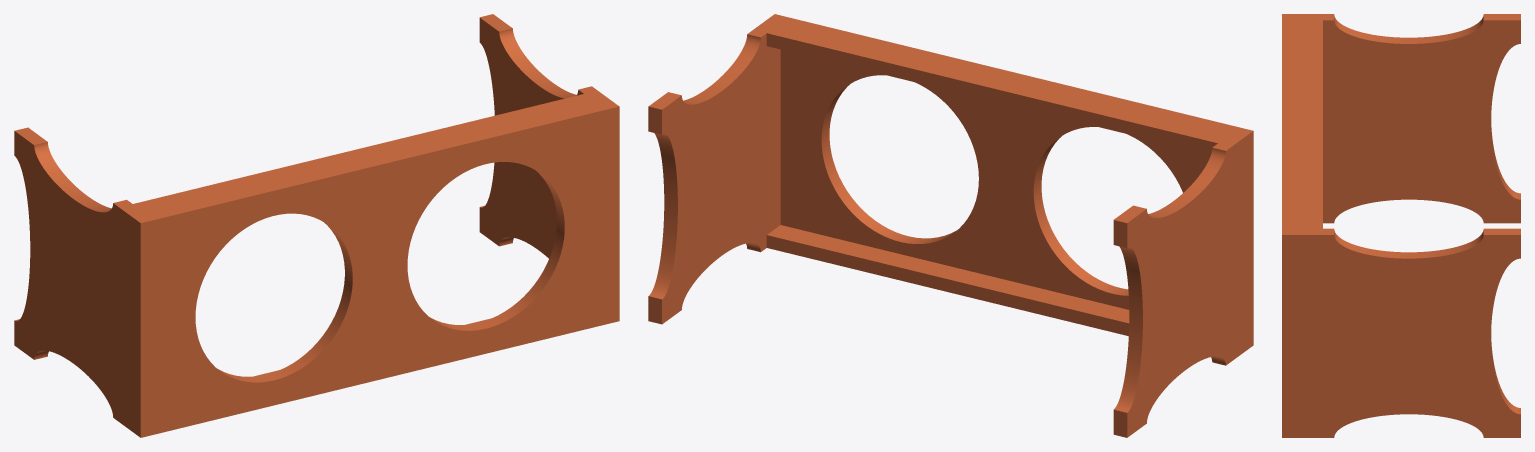
File: itatotal.gltf
The picture shows the model from 3 angles, left to right: view 1: azimuth 30°, elevation 25°; view 2: azimuth 150°, elevation 25°; view 3: azimuth 270°, elevation 25°; orthographic projection. The views are drawn at different scales.
Visible parts, largest first — view 1: mesh13_meshnode_13, mesh8_meshnode_8 (×2), mesh24_meshnode_24, mesh18_meshnode_18, mesh6_meshnode_6 (×2), mesh19_meshnode_19, mesh12_meshnode_12, mesh15_meshnode_15; view 2: mesh8_meshnode_8 (×2), mesh14_meshnode_14, mesh24_meshnode_24 (×2), mesh22_meshnode_22 (×2), mesh11_meshnode_11 (×2), mesh18_meshnode_18, mesh6_meshnode_6 (×2), mesh15_meshnode_15, mesh12_meshnode_12, mesh19_meshnode_19; view 3: mesh7_meshnode_7 (×2), mesh24_meshnode_24, mesh18_meshnode_18, mesh17_meshnode_17, mesh6_meshnode_6 (×2), mesh5_meshnode_5 (×2), mesh10_meshnode_10 (×2), mesh11_meshnode_11.
Part boxes in pixels (<box>): mesh13_meshnode_13: <box>140,106,619,437</box>; mesh8_meshnode_8 (×2): <box>14,18,583,431</box>; mesh24_meshnode_24: <box>133,94,597,213</box>; mesh18_meshnode_18: <box>133,100,618,222</box>; mesh6_meshnode_6 (×2): <box>34,28,576,212</box>; mesh19_meshnode_19: <box>218,222,352,382</box>; mesh12_meshnode_12: <box>430,171,564,330</box>; mesh15_meshnode_15: <box>133,218,140,437</box>; mesh8_meshnode_8 (×2): <box>662,33,1245,437</box>; mesh14_meshnode_14: <box>780,49,1210,309</box>; mesh24_meshnode_24 (×2): <box>767,23,1231,323</box>; mesh22_meshnode_22 (×2): <box>766,33,1217,335</box>; mesh11_meshnode_11 (×2): <box>649,133,1142,412</box>; mesh18_meshnode_18: <box>767,14,1252,136</box>; mesh6_meshnode_6 (×2): <box>683,34,1225,218</box>; mesh15_meshnode_15: <box>1245,131,1253,350</box>; mesh12_meshnode_12: <box>821,84,956,243</box>; mesh19_meshnode_19: <box>1033,136,1128,295</box>; mesh7_meshnode_7 (×2): <box>1297,20,1520,437</box>; mesh24_meshnode_24: <box>1297,20,1322,228</box>; mesh18_meshnode_18: <box>1282,14,1296,234</box>; mesh17_meshnode_17: <box>1282,235,1296,437</box>; mesh6_meshnode_6 (×2): <box>1334,15,1483,258</box>; mesh5_meshnode_5 (×2): <box>1297,14,1334,234</box>; mesh10_meshnode_10 (×2): <box>1483,14,1520,234</box>; mesh11_meshnode_11: <box>1491,334,1520,414</box>.
Bounding box in the file's own units: 0.7 × 0.3 × 0.32.
